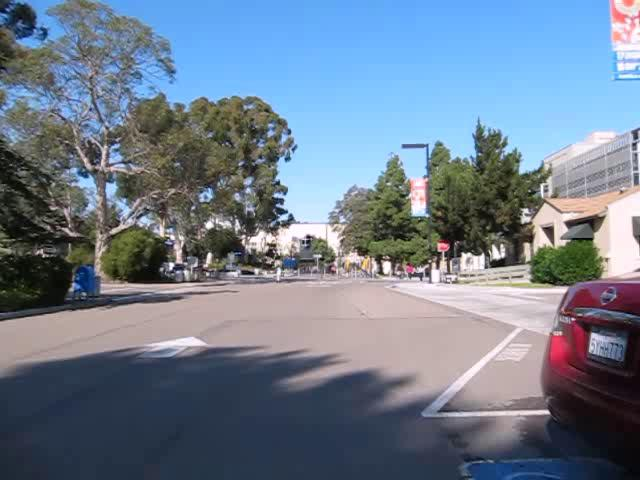stop: (436, 239, 450, 252)
